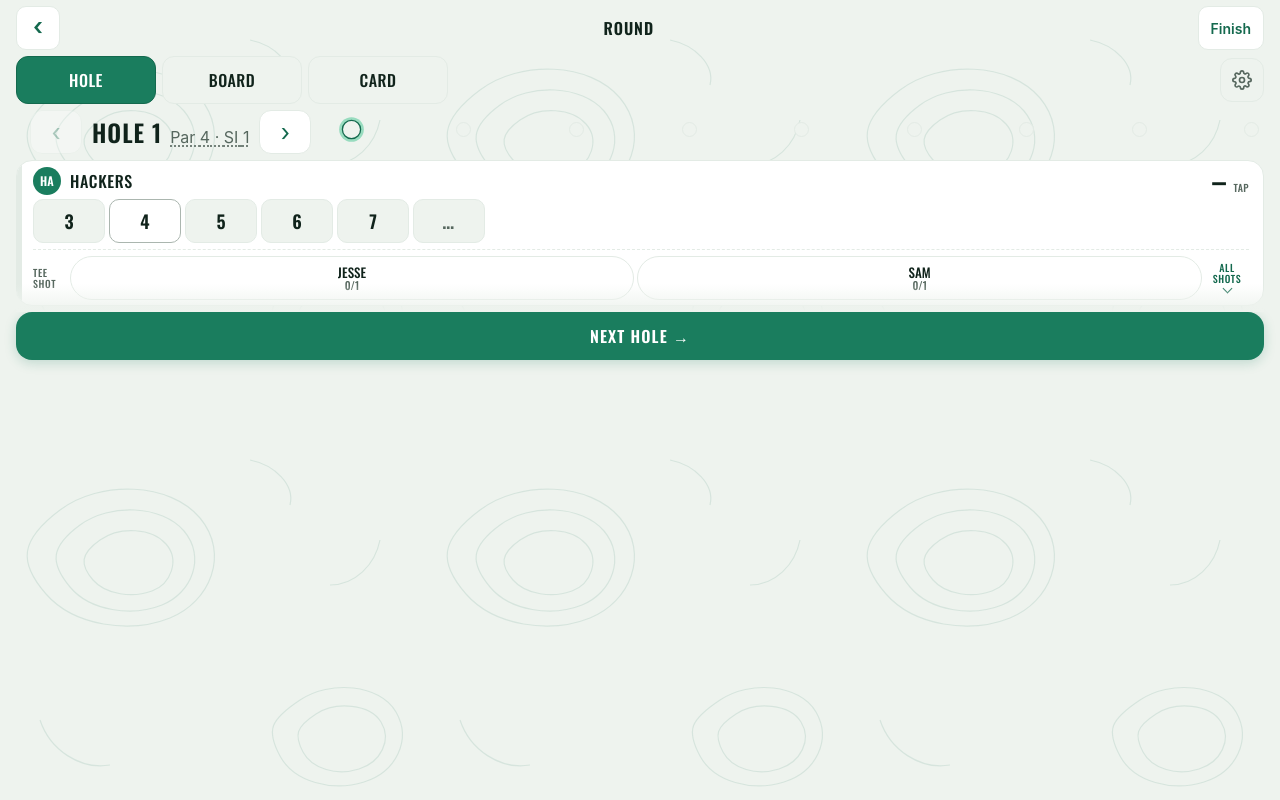
the warning banner › composes with the missing-scores sentence
Click the button "Finish" at (1231, 28), box [1198,6,1264,50]
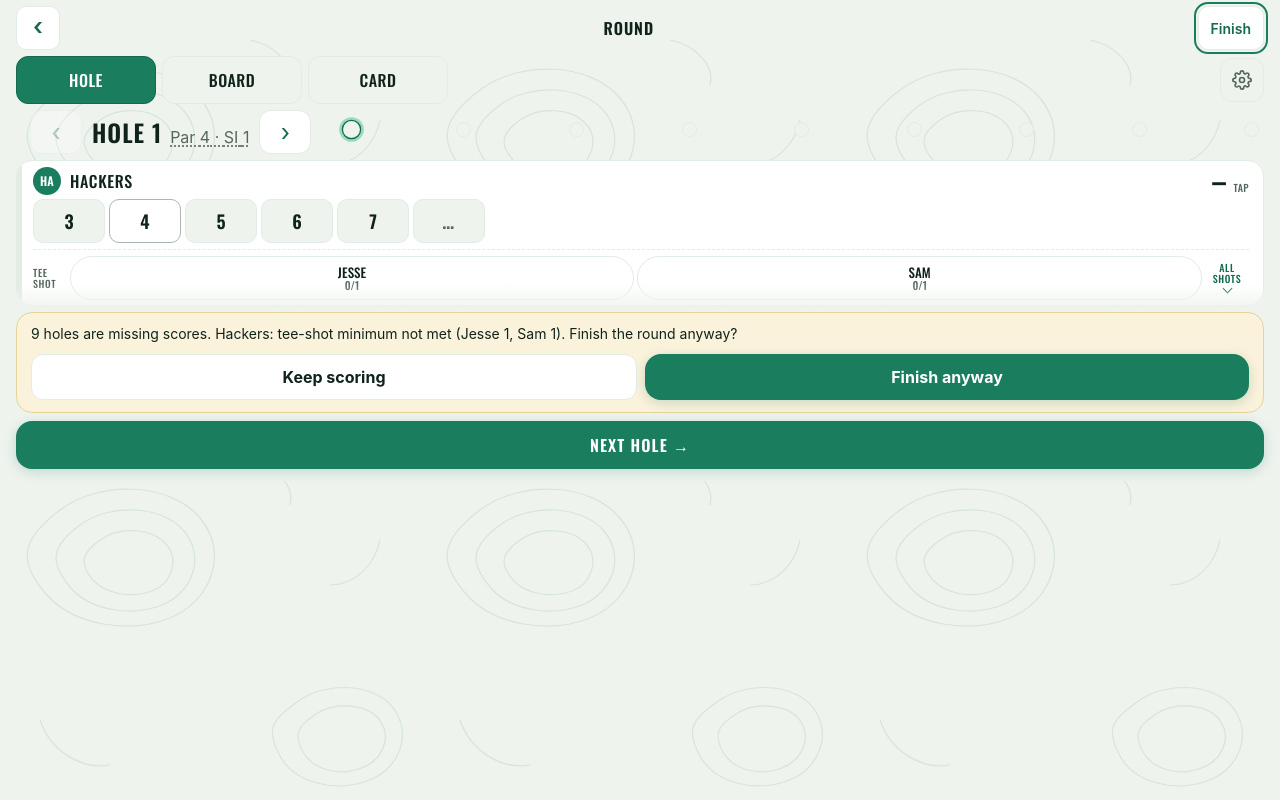
Expected: the message shows "9 holes are missing scores. Hackers: tee-shot minimum not met (Jesse 1, Sam 1). Finish the round anyway?", [31,325,738,342]
